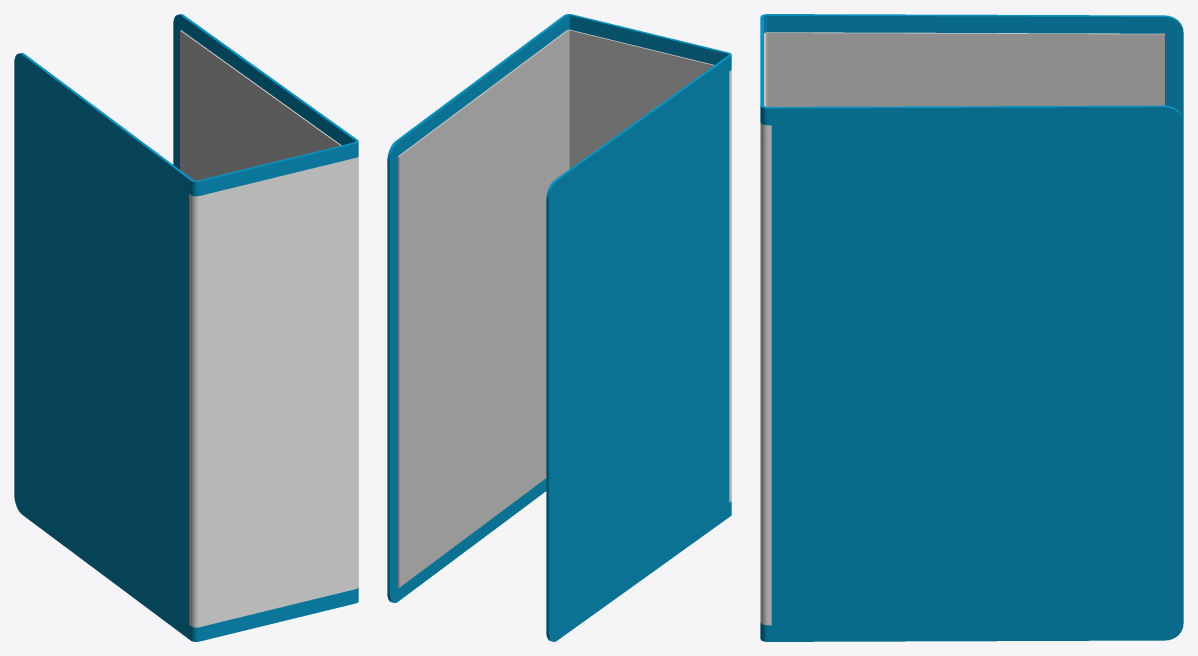
The model's file is 453_パイプ式ファイル太.glb.
3 renders of one model, left to right at view 1: azimuth 30°, elevation 25°; view 2: azimuth 150°, elevation 25°; view 3: azimuth 270°, elevation 25°, orthographic. The views are drawn at different scales.
Parts seen in each view (by area): view 1: 453_pipe_file_L; view 2: 453_pipe_file_L; view 3: 453_pipe_file_L.
Boxes of the visible parts, x1,y1,x2,y2 form: 453_pipe_file_L: [14, 14, 358, 641]; 453_pipe_file_L: [387, 14, 731, 641]; 453_pipe_file_L: [760, 14, 1183, 641].
Bounding box in the file's own units: 0.1216 × 0.32 × 0.23.
